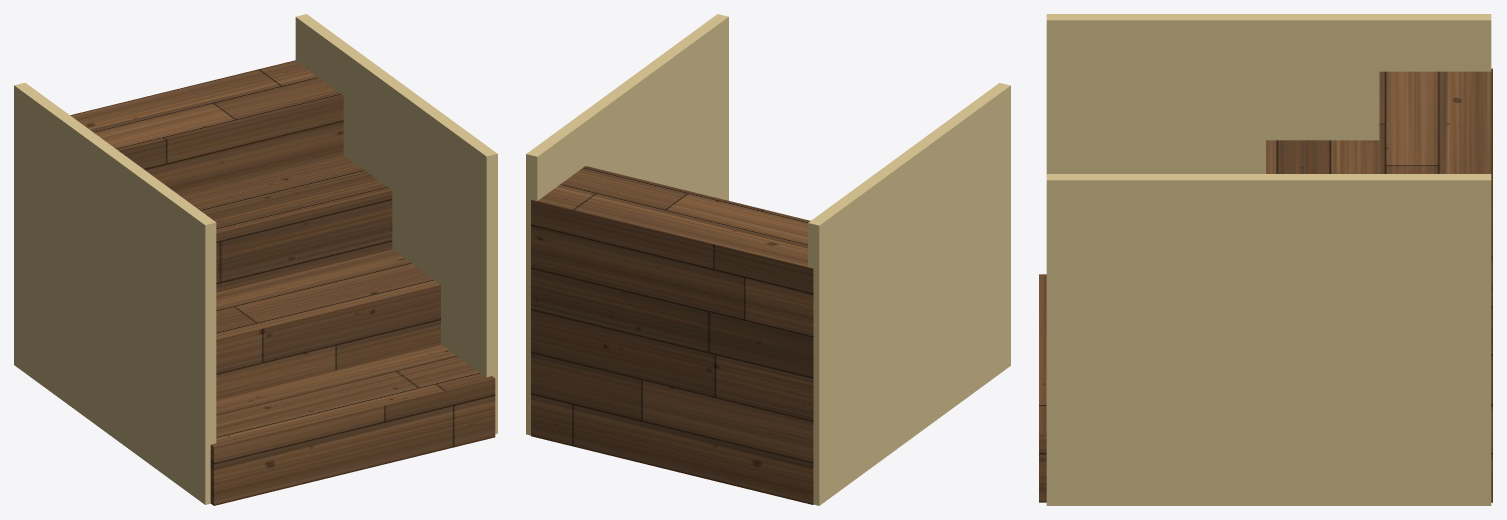
Rendered from stage_steps.glb.
3 renders of one model, left to right at view 1: azimuth 30°, elevation 25°; view 2: azimuth 150°, elevation 25°; view 3: azimuth 270°, elevation 25°, orthographic. The views are drawn at different scales.
Visible parts, largest first — view 1: stage_steps_stagefl, stage_steps_gold; view 2: stage_steps_gold, stage_steps_stagefl; view 3: stage_steps_gold, stage_steps_stagefl.
Part boxes in pixels (bbox=[...]): stage_steps_stagefl: bbox=[70, 60, 495, 505]; stage_steps_gold: bbox=[14, 14, 497, 504]; stage_steps_gold: bbox=[526, 14, 1010, 505]; stage_steps_stagefl: bbox=[531, 166, 813, 504]; stage_steps_gold: bbox=[1046, 14, 1491, 505]; stage_steps_stagefl: bbox=[1039, 68, 1492, 502].
Bounding box in the file's own units: 1.04 × 0.95 × 1.2.
2 materials, 1 textured.
